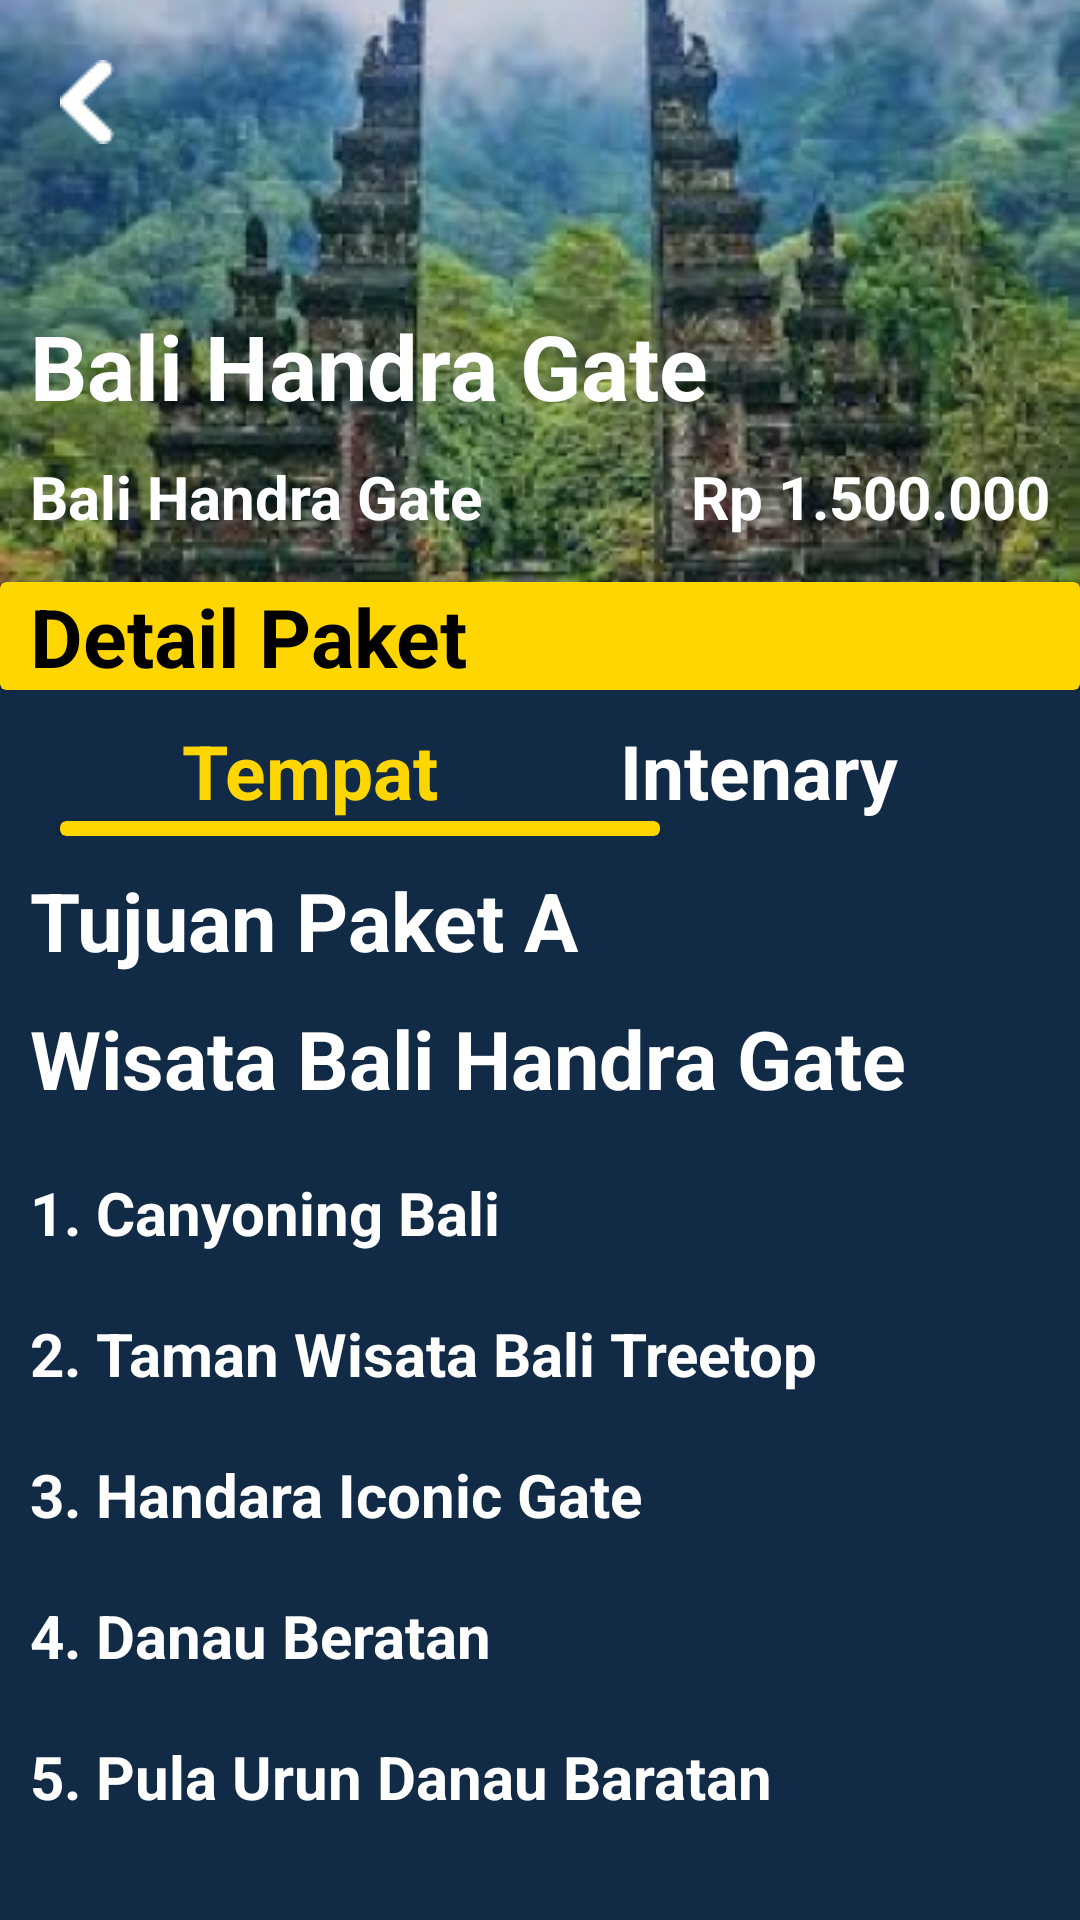

Screen size 1080w x 1920h. Icon name, then its center in pixels as point (x, y):
back: point (87, 102)
